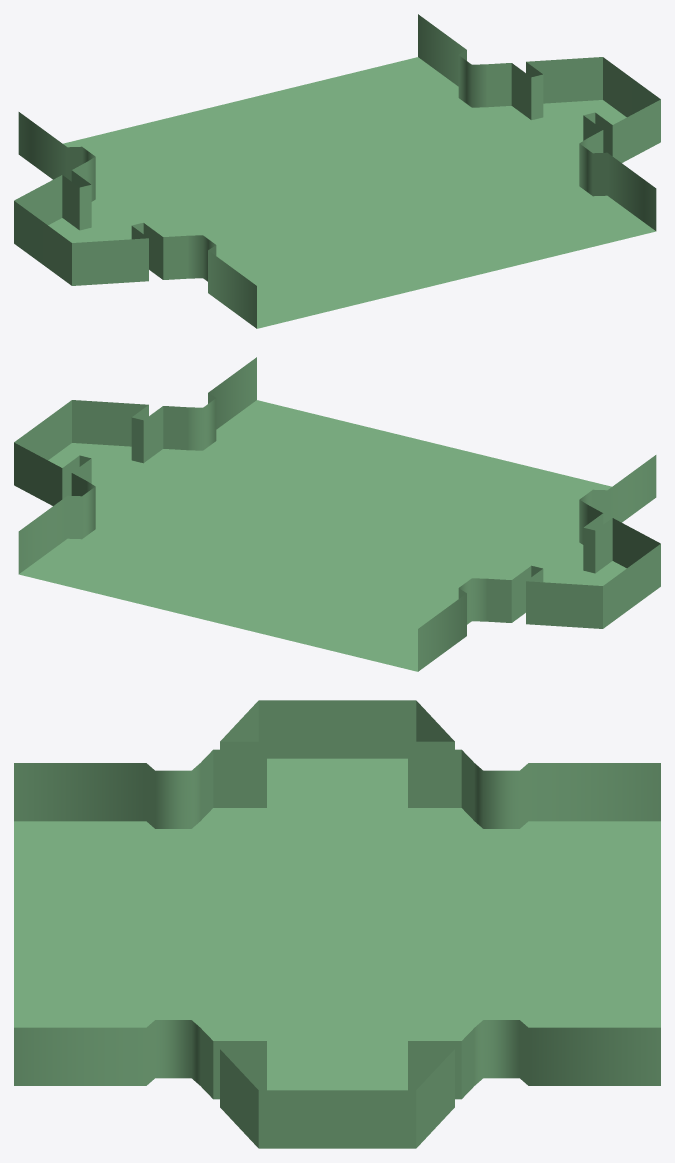
File: Hallway_I_16_B_COL.fbx
The picture shows the model from 3 angles, top to bottom: view 1: azimuth 30°, elevation 25°; view 2: azimuth 150°, elevation 25°; view 3: azimuth 270°, elevation 25°; orthographic projection. The views are drawn at different scales.
Parts seen in each view (by area): view 1: Hallway_I_16_B_COL; view 2: Hallway_I_16_B_COL; view 3: Hallway_I_16_B_COL.
Part boxes in pixels (<box>): Hallway_I_16_B_COL: <box>14,14,660,328</box>; Hallway_I_16_B_COL: <box>14,357,660,671</box>; Hallway_I_16_B_COL: <box>14,700,660,1148</box>.
Size of the model in its own units: 2283 by 159 by 1600.
